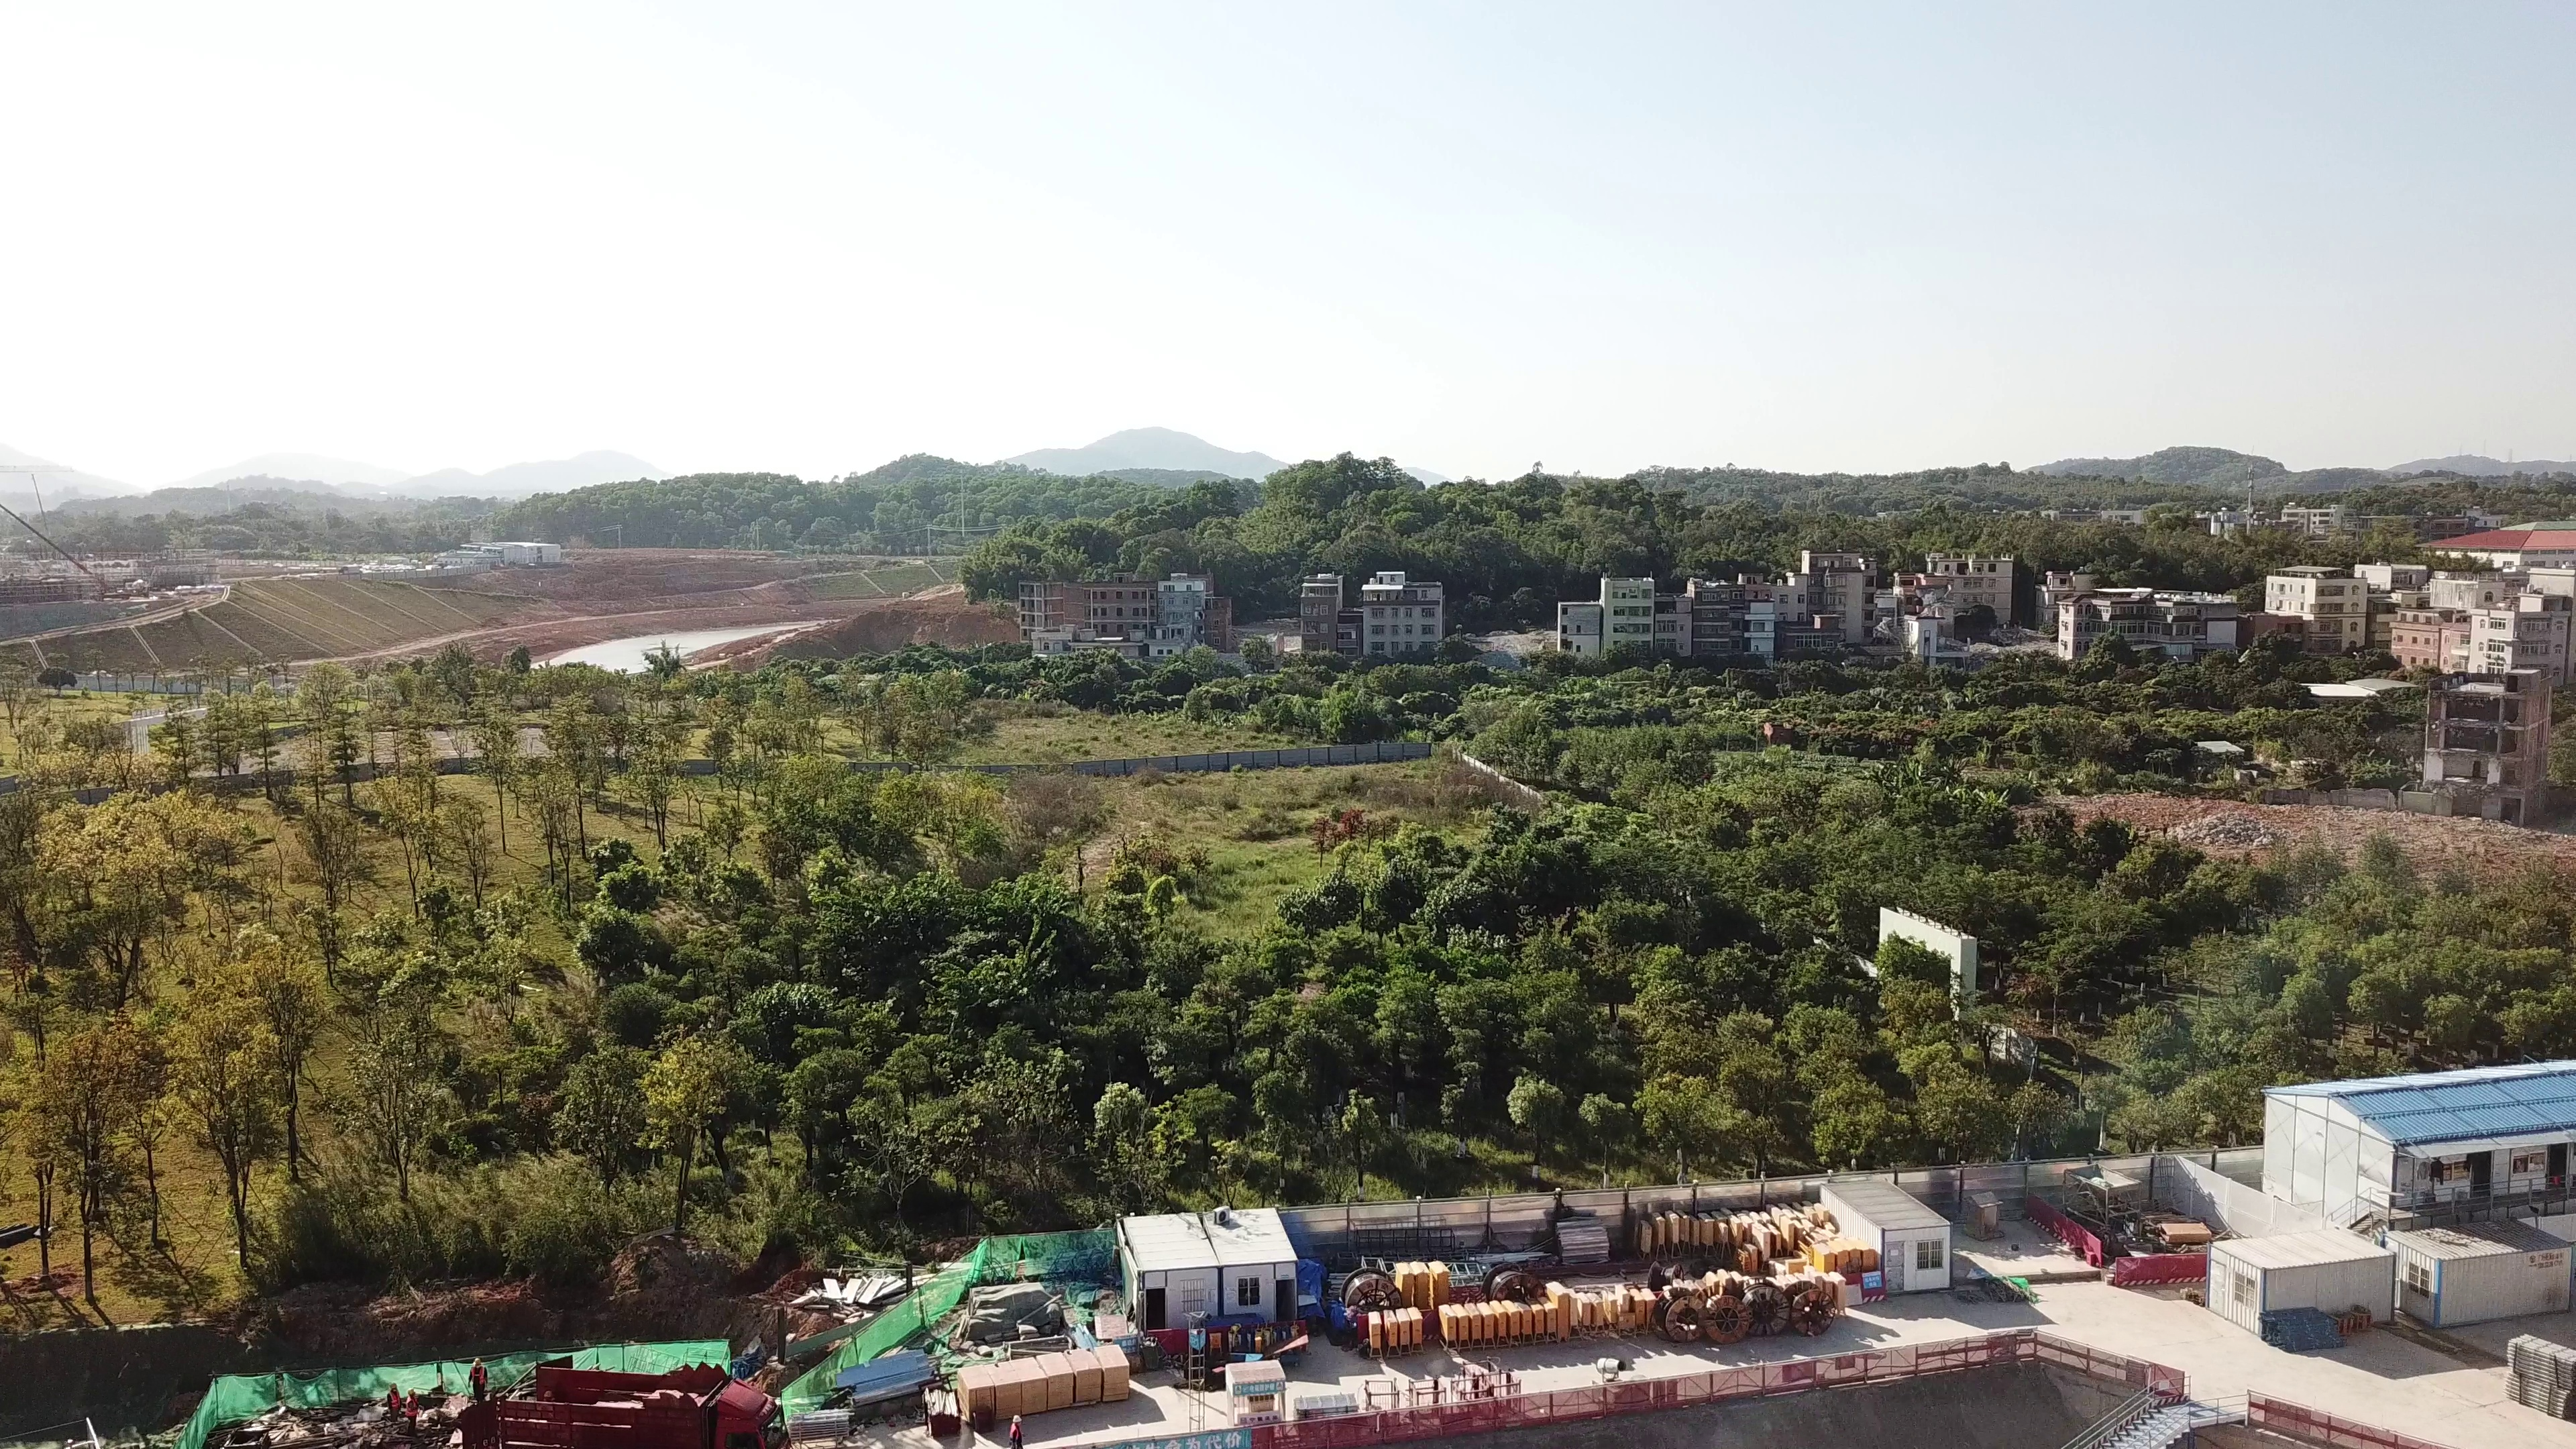fence: (1375, 1155, 2140, 1237), (1495, 1351, 2173, 1405)
helmet: (474, 1358, 483, 1366), (407, 1389, 415, 1396), (1013, 1414, 1020, 1421), (389, 1383, 397, 1388)
person: (462, 1356, 492, 1407), (404, 1390, 427, 1444), (1006, 1414, 1031, 1447), (385, 1383, 405, 1424)
scaffold: (2499, 1320, 2576, 1421), (918, 1389, 964, 1431), (785, 1415, 857, 1434)
slogan: (1157, 1418, 1239, 1449)
vest: (470, 1366, 484, 1383), (388, 1391, 401, 1411), (406, 1397, 416, 1415), (1010, 1426, 1022, 1442)
wood: (959, 1360, 1136, 1403)
